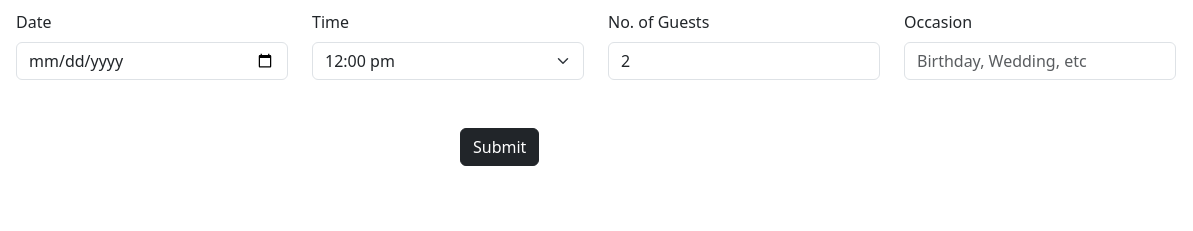
BookingForm › validates form inputs
The image size is (1193, 231).
Type "A very long occasion name that exceeds the limit" into the field labelled "Occasion" at (1040, 61), box [904,42,1176,80]
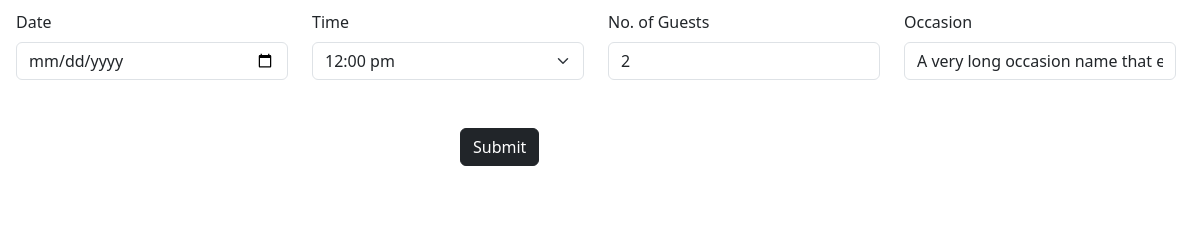
Leave the field labelled "Occasion", box [904,42,1176,80]
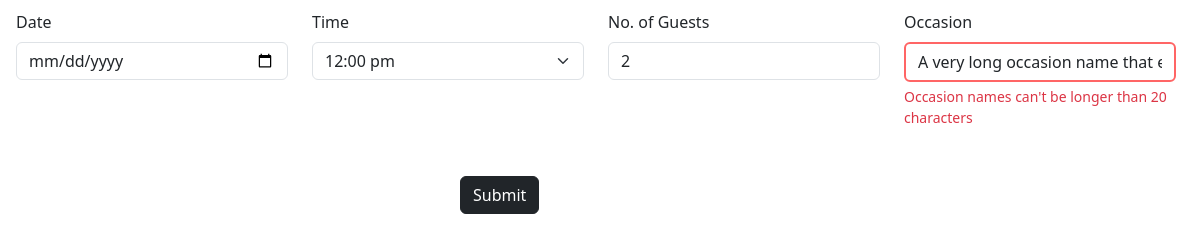
Expected: the text "Occasion names can't be longer than 20 characters" is shown, [904,86,1176,128]
